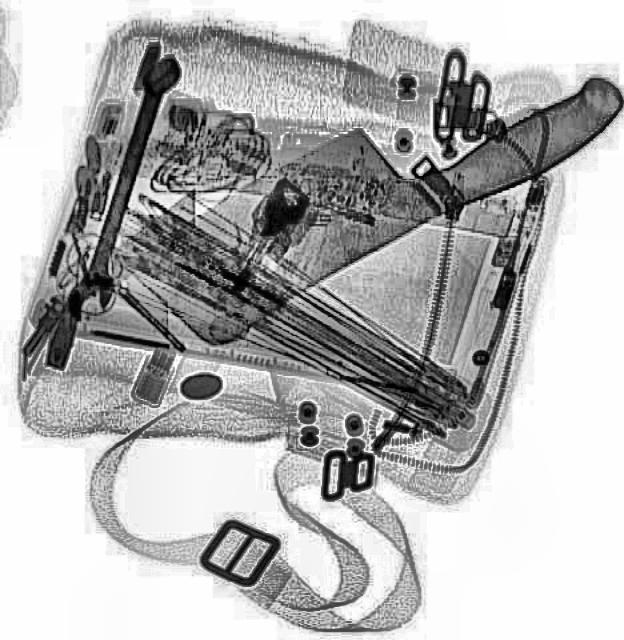Knife: (120, 22, 622, 354)
Wrench: (61, 47, 183, 321)
